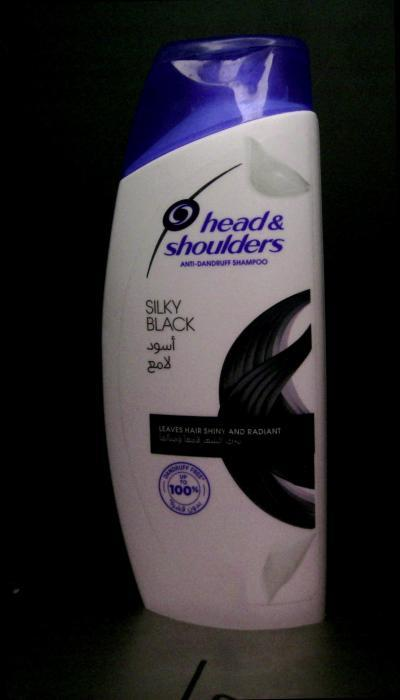adhesion_unacc: (244, 132, 314, 198), (260, 529, 319, 605)
